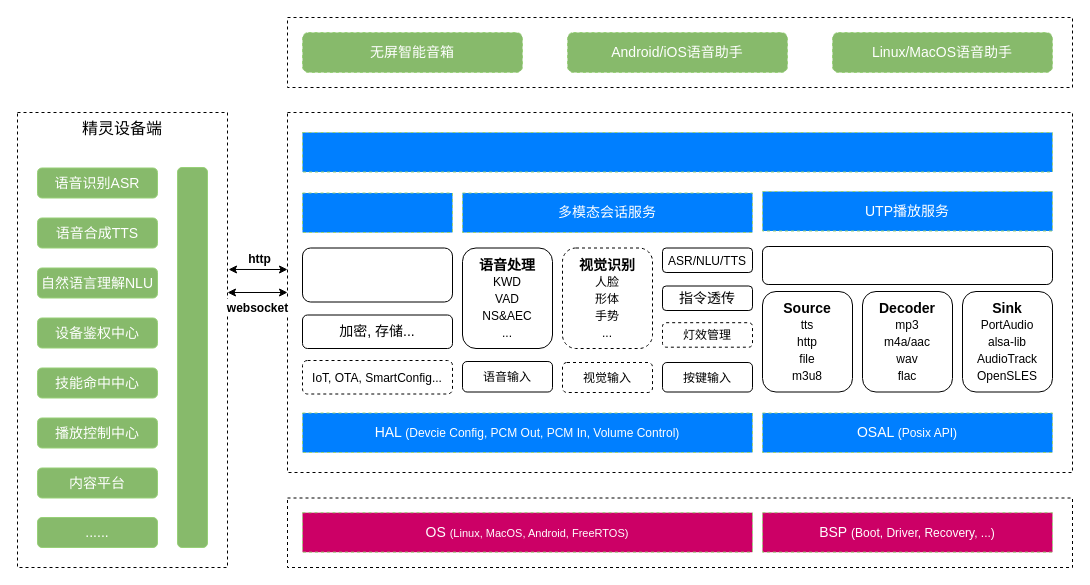
Image size: 1090x585. Some labels were removed from this diagram. Here are the shapes that lost their labels. From the top down, the centre of each, then its label:
pixel 677 152: OpenAPI (Native, JNI, Python, JS)
pixel 377 212: 系统基本服务
pixel 377 274: 网络连接 http websocket
pixel 907 265: MediaPlayer
pixel 192 357: 网关协议层
